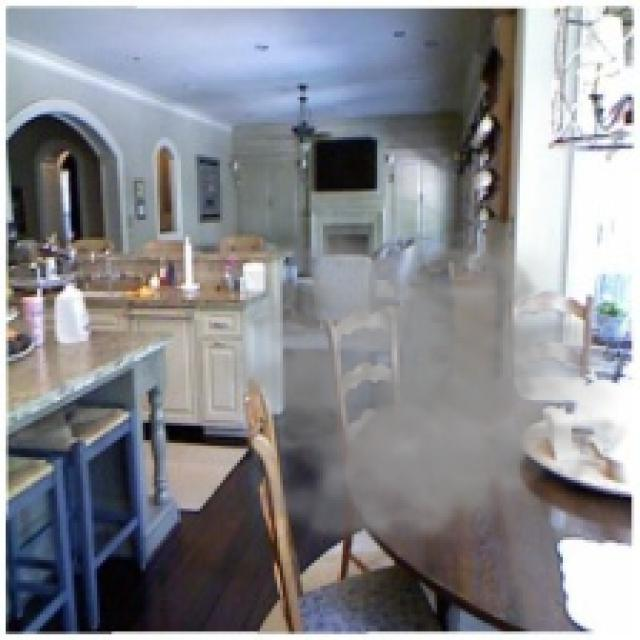smoke: (208, 217, 632, 574)
